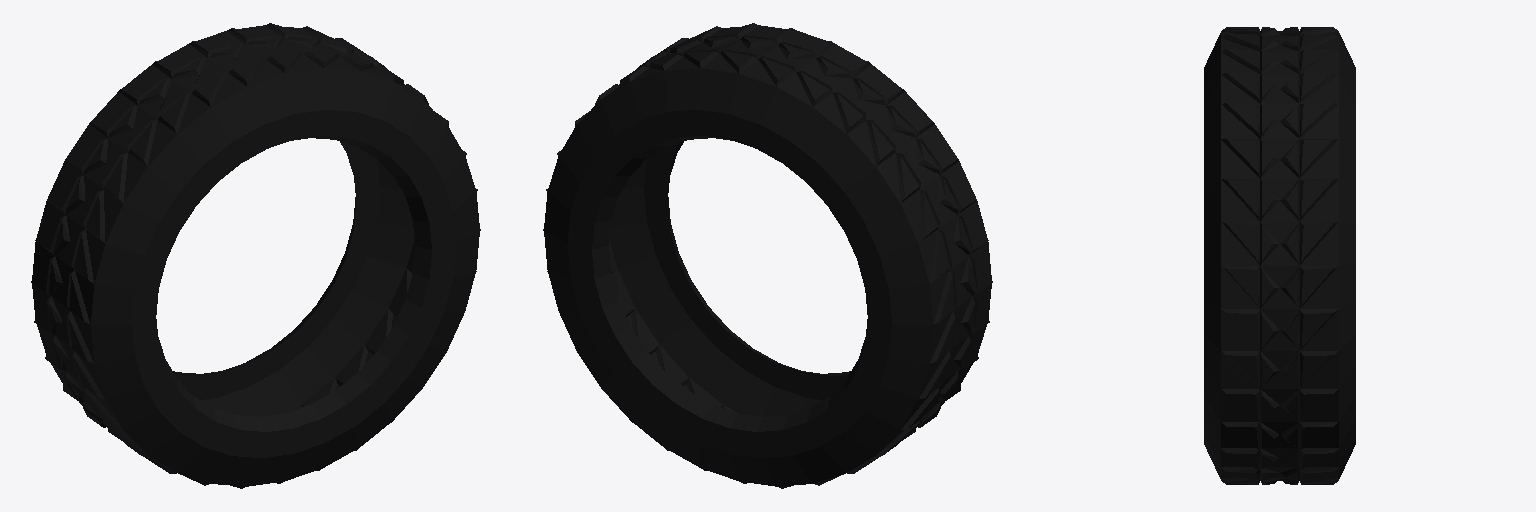
Rendered from Tyre.obj.
3 renders of one model, left to right at view 1: azimuth 30°, elevation 25°; view 2: azimuth 150°, elevation 25°; view 3: azimuth 270°, elevation 25°, orthographic.
Visible parts, largest first — view 1: g0; view 2: g0; view 3: g0.
Boxes of the visible parts, <box> form: g0: <box>31,23,480,488</box>; g0: <box>543,23,992,488</box>; g0: <box>1204,27,1355,484</box>.
Bounding box in the file's own units: 3 × 3 × 1.